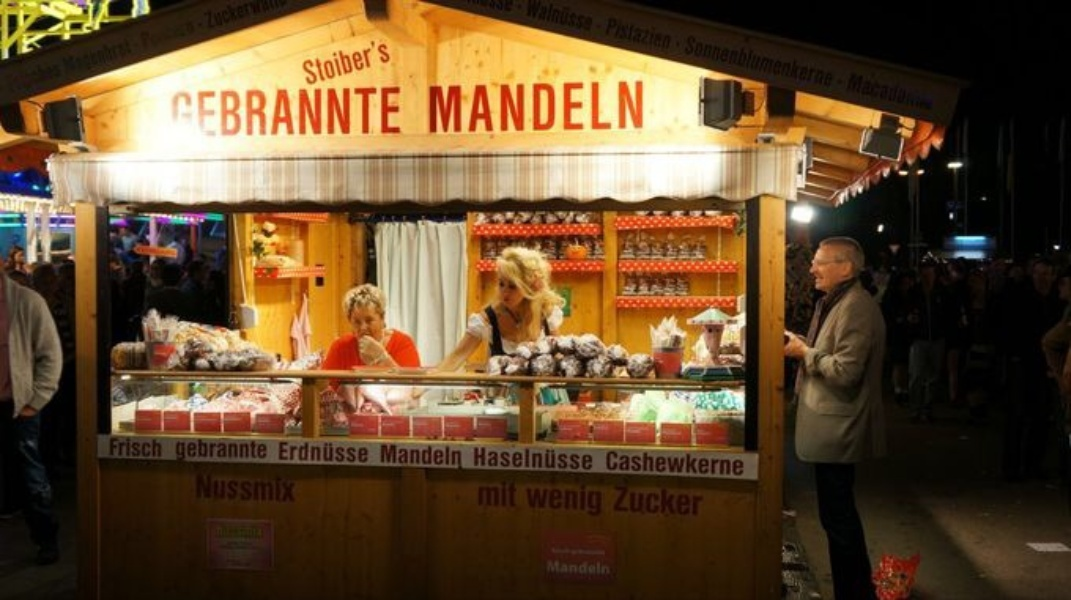text: (385, 87, 401, 138), (433, 81, 448, 133), (449, 81, 464, 133), (465, 81, 480, 133), (481, 81, 496, 133), (497, 81, 512, 133), (513, 81, 528, 133), (529, 81, 544, 133), (545, 81, 560, 133), (561, 81, 576, 133), (577, 81, 592, 133), (593, 81, 608, 133), (609, 81, 624, 133), (625, 81, 640, 133), (177, 87, 192, 138), (193, 87, 208, 138), (209, 87, 224, 138), (225, 87, 240, 138), (241, 87, 256, 138), (257, 87, 272, 138), (273, 87, 288, 138), (289, 87, 304, 138), (305, 87, 320, 138), (321, 87, 336, 138), (337, 87, 352, 138), (353, 87, 368, 138), (369, 87, 384, 138), (305, 38, 320, 87), (321, 38, 336, 87), (337, 38, 352, 87), (353, 38, 368, 87), (369, 38, 384, 87), (689, 486, 705, 517), (529, 487, 544, 520), (545, 487, 560, 520), (561, 487, 576, 520), (577, 487, 592, 520), (625, 486, 640, 517), (641, 486, 656, 517), (657, 486, 672, 517), (673, 486, 688, 517), (209, 475, 224, 504), (225, 475, 240, 504), (241, 475, 256, 504), (257, 475, 272, 504), (273, 475, 288, 504), (609, 451, 624, 478), (625, 451, 640, 478), (641, 451, 656, 478), (657, 451, 672, 478), (673, 451, 688, 478), (689, 451, 704, 478), (705, 451, 720, 478), (721, 451, 736, 478), (481, 482, 496, 509), (497, 482, 512, 509), (577, 448, 593, 471), (593, 487, 604, 520), (353, 443, 369, 465), (385, 445, 400, 468), (401, 445, 416, 468), (417, 445, 432, 468), (433, 445, 448, 468), (481, 448, 496, 471), (497, 448, 512, 471), (513, 448, 528, 471), (529, 448, 544, 471), (545, 448, 560, 471), (561, 448, 576, 471), (613, 486, 624, 517), (289, 443, 304, 465), (305, 443, 320, 465), (321, 443, 336, 465), (337, 443, 352, 465), (197, 475, 208, 504), (113, 438, 128, 459), (129, 438, 144, 459), (145, 438, 160, 459), (177, 441, 192, 462), (193, 441, 208, 462), (209, 441, 224, 462), (225, 441, 240, 462), (241, 441, 256, 462), (449, 445, 462, 468), (385, 38, 391, 87), (545, 560, 560, 577), (561, 560, 576, 577), (577, 560, 592, 577), (593, 560, 608, 577), (289, 475, 297, 504), (257, 441, 268, 462), (172, 87, 176, 138), (279, 443, 288, 465), (300, 38, 304, 87), (225, 528, 240, 541), (241, 528, 256, 541), (737, 451, 744, 478), (429, 81, 432, 133), (475, 448, 480, 471), (513, 482, 517, 509), (641, 81, 643, 133), (257, 528, 265, 541), (218, 528, 224, 541), (109, 438, 112, 459), (478, 482, 480, 509), (609, 560, 612, 577), (382, 445, 384, 468), (161, 438, 163, 459), (527, 487, 528, 520), (607, 451, 608, 478), (175, 441, 176, 462)
